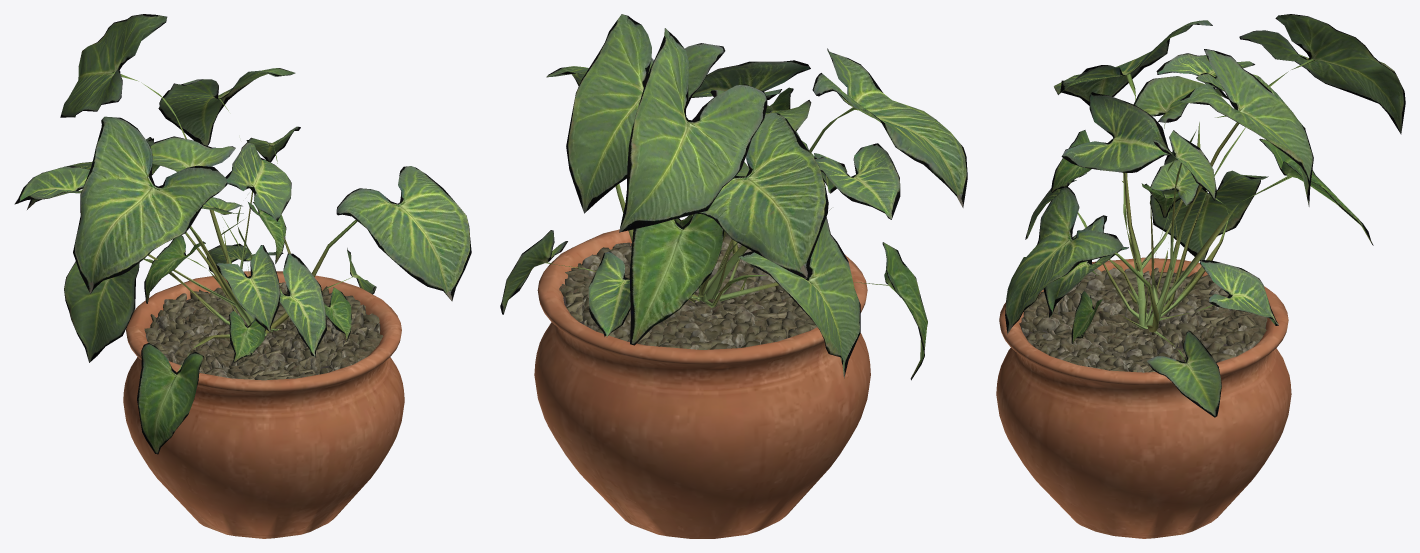
The model's file is potted_plant.glb.
3 views of the same model, side by side, from view 1: azimuth 30°, elevation 25°; view 2: azimuth 150°, elevation 25°; view 3: azimuth 270°, elevation 25° (orthographic). The views are drawn at different scales.
Visible parts, largest first — view 1: potted_plant_02_leaves, potted_plant_02_pot; view 2: potted_plant_02_leaves, potted_plant_02_pot; view 3: potted_plant_02_pot, potted_plant_02_leaves.
Boxes of the visible parts, <box> form: potted_plant_02_leaves: <box>14,14,471,454</box>; potted_plant_02_pot: <box>123,271,404,538</box>; potted_plant_02_leaves: <box>500,14,967,380</box>; potted_plant_02_pot: <box>534,220,870,538</box>; potted_plant_02_pot: <box>996,257,1291,538</box>; potted_plant_02_leaves: <box>1005,14,1405,417</box>.
Bounding box in the file's own units: 0.7009 × 0.8401 × 0.6574.
2 materials, 2 textured.
